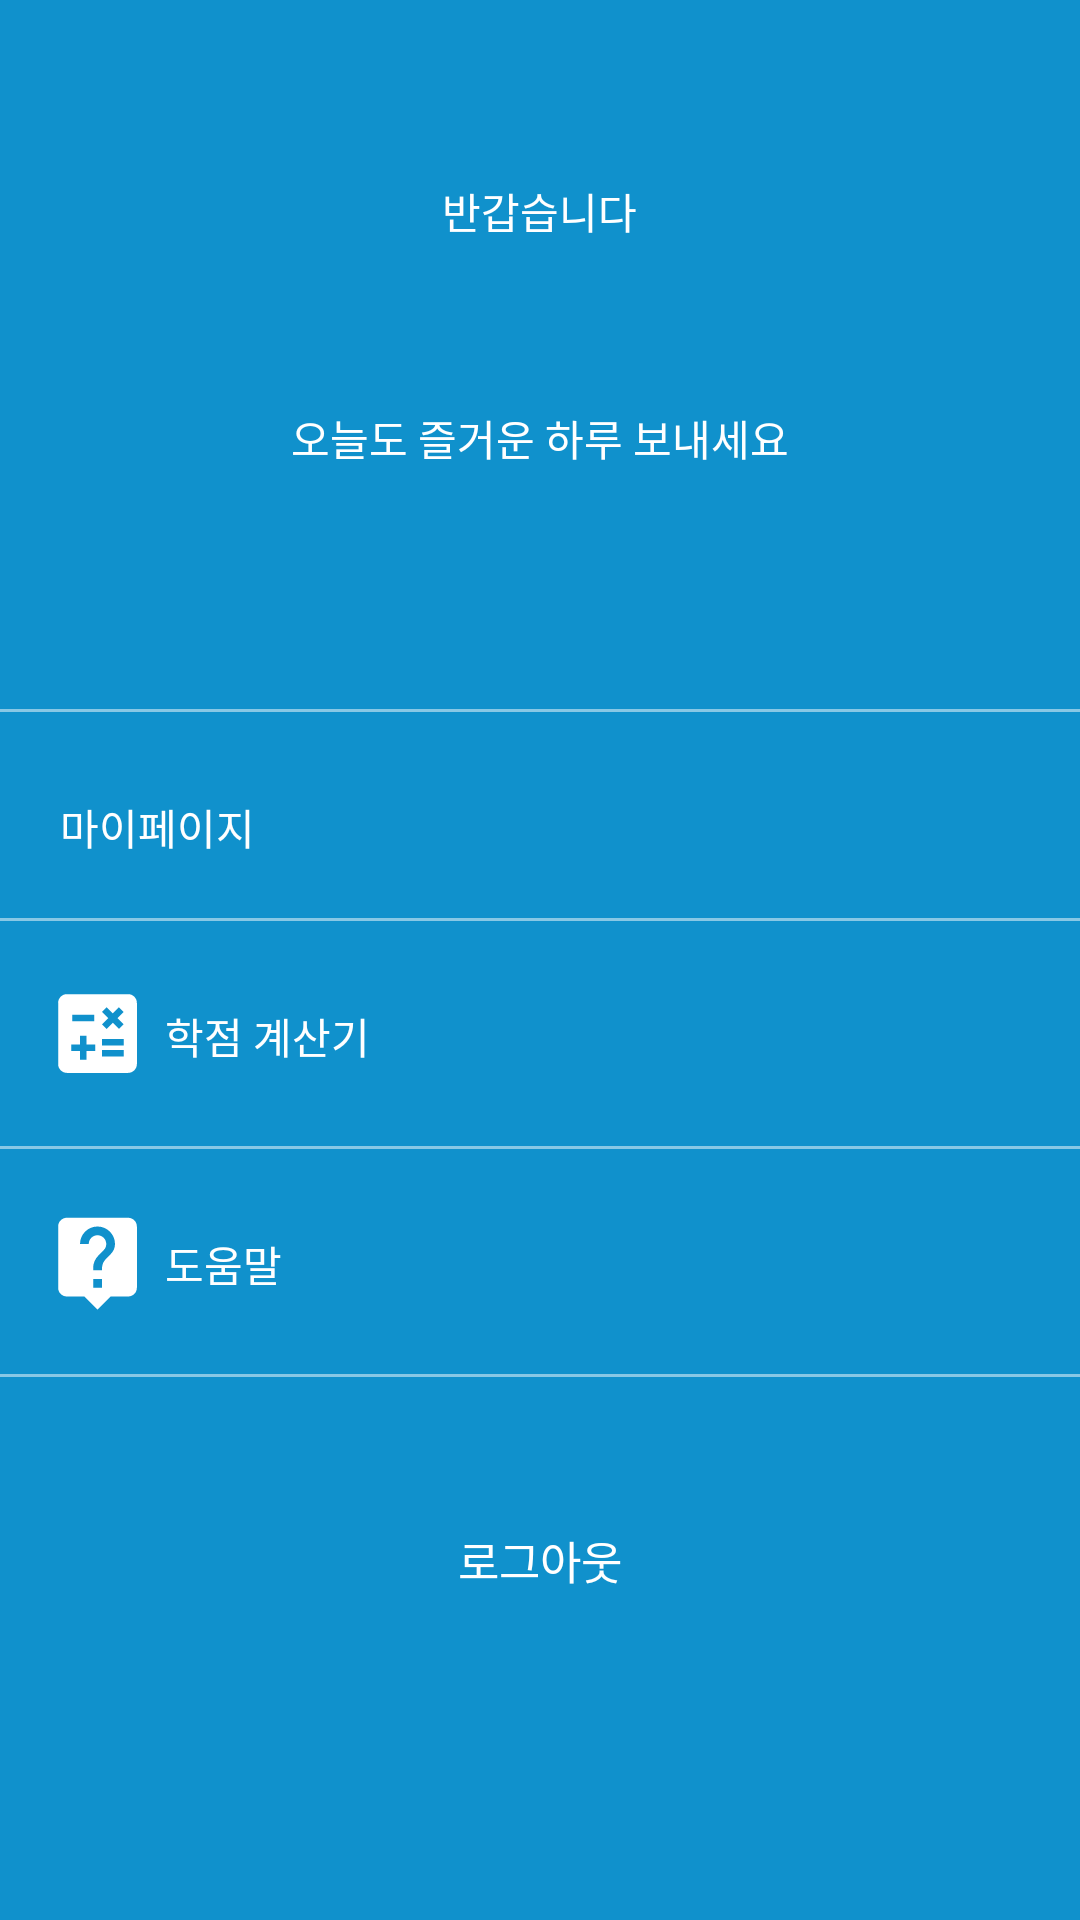

Icons on this 1080 x 1920 Android screen, each with its box as box(x1, y1, x2, y2):
cal: box(58, 994, 137, 1073)
help: box(58, 1217, 137, 1310)
